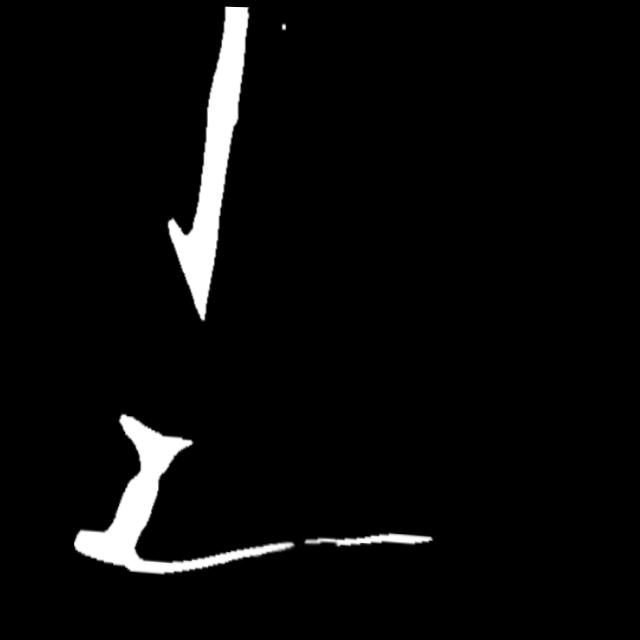sup: (279, 531, 309, 552)
